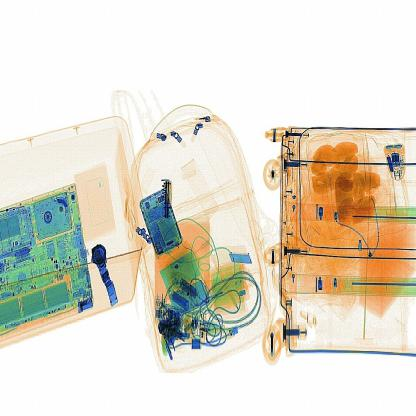scissors: (161, 177, 172, 224)
